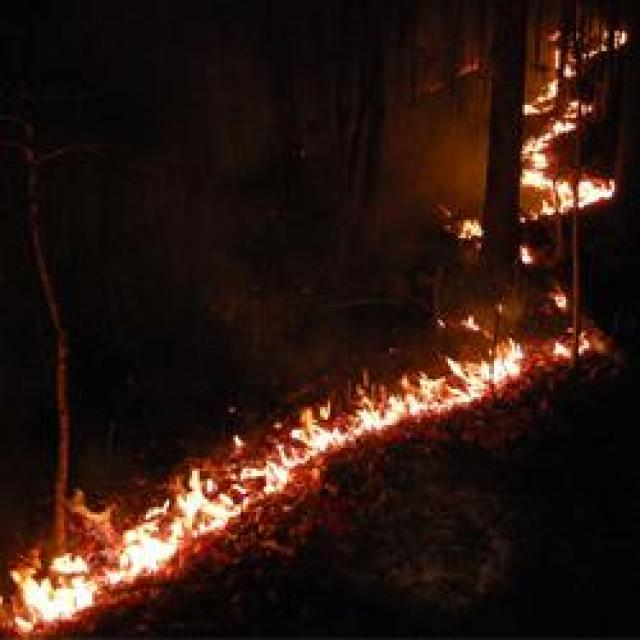fire: (0, 300, 610, 640), (529, 8, 609, 269)
